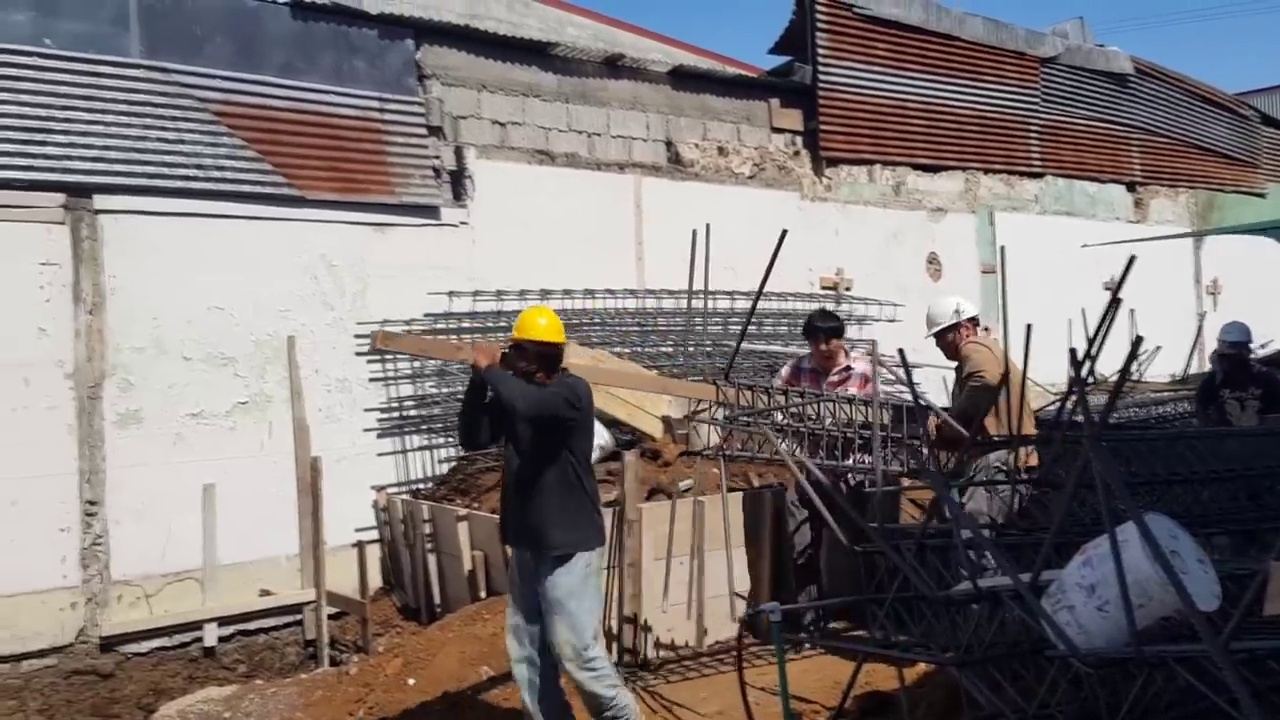helmet: (502, 306, 571, 356), (921, 296, 982, 338), (1216, 326, 1257, 360)
helmet-off: (802, 310, 848, 371)
helmet-on: (500, 310, 568, 392), (923, 298, 993, 362), (1210, 319, 1258, 377)
person: (473, 298, 627, 713), (920, 296, 1035, 591), (774, 306, 896, 565), (1202, 328, 1274, 430)
